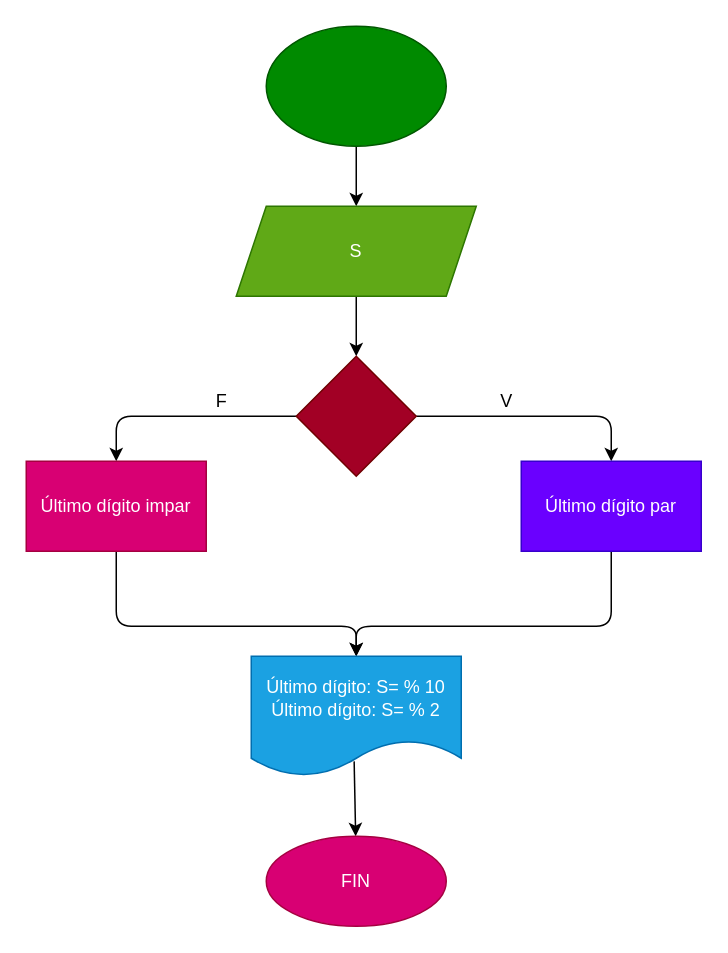
This 728x953 diagram has some shape labels left out. Here are the shapes that lost their labels. From the top down, the centre of each, then its label:
At (355,85): "INICIO".
At (355,415): "X==0 X!=0".
